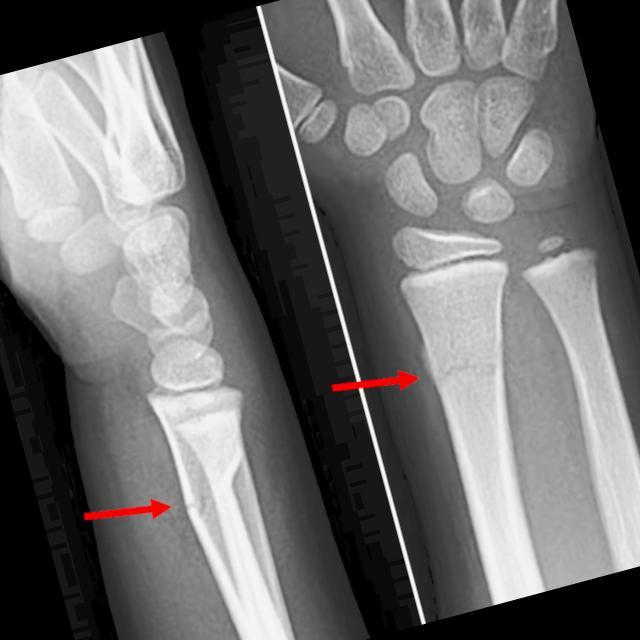GreenStick Fracture: (426, 345, 494, 387), (180, 485, 222, 519)
